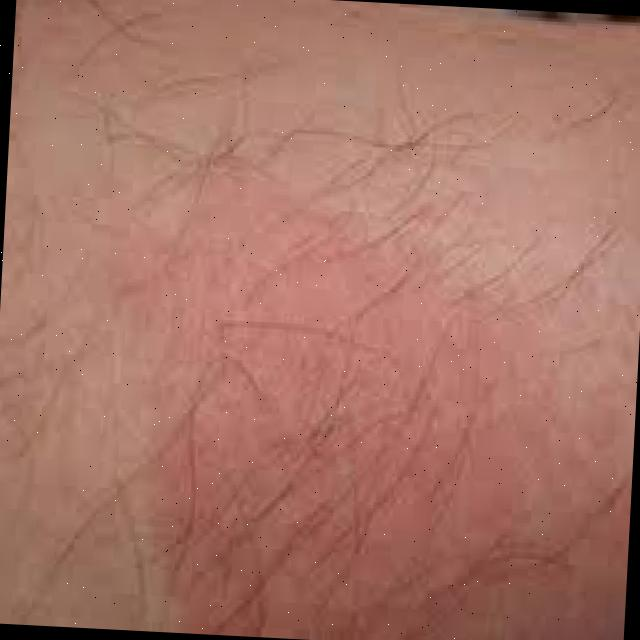kan emici bocekler: (135, 179, 640, 640)
